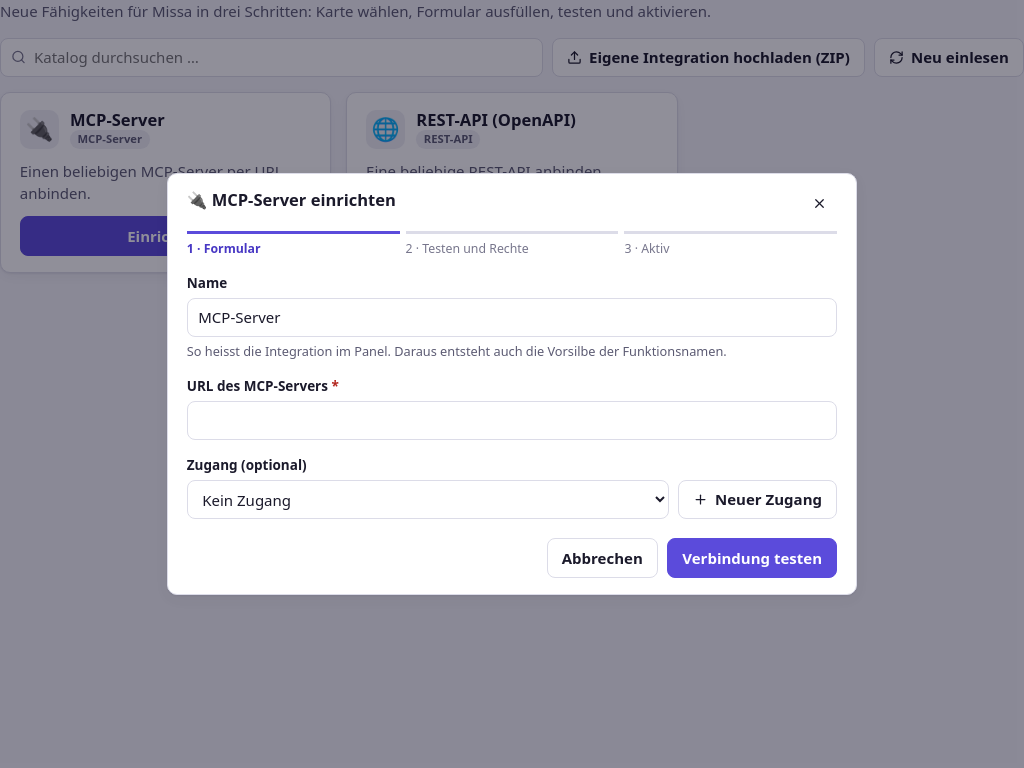
Test case: Assistent: Stufe „Nur lesen“ setzt alle Rechte, ein einzelnes Recht ändern zeigt „angepasst“
Type "http://server:8000/mcp" into the field labelled "URL des MCP-Servers *" at (512, 420), box top-left (187, 401), bottom-right (837, 440)
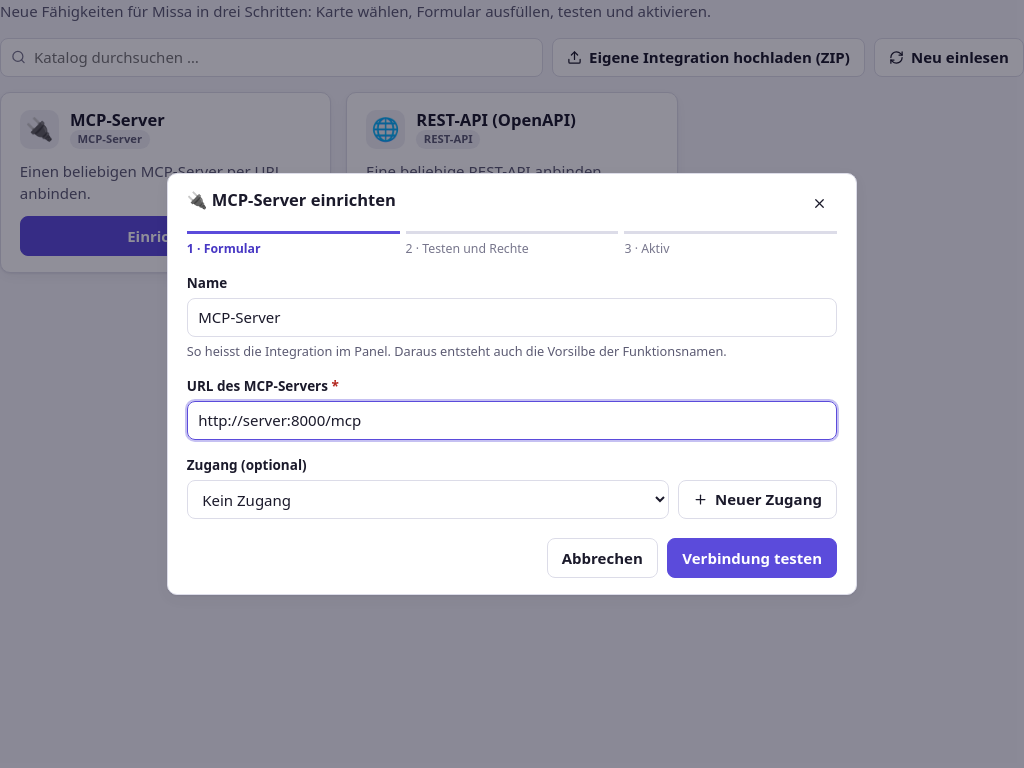
Click the button "Verbindung testen" at (752, 558), box top-left (667, 538), bottom-right (837, 578)
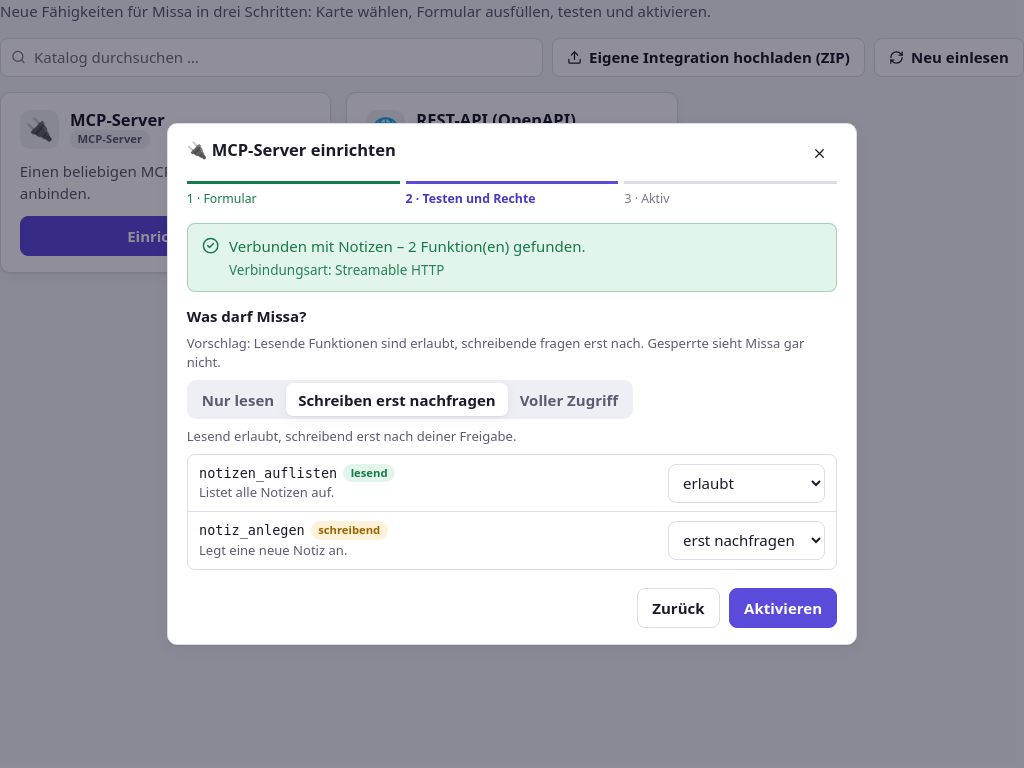
Click the radio button labelled "Nur lesen" at (238, 400), box top-left (190, 383), bottom-right (286, 416)
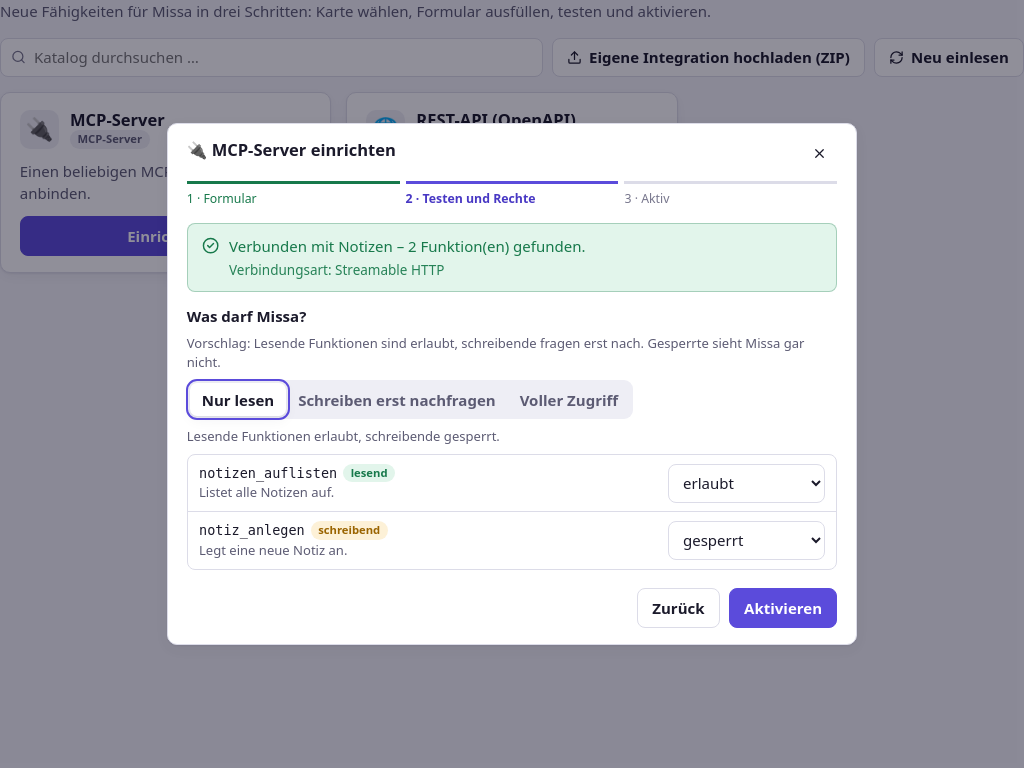
Expected: the text "angepasst" is not shown
Expected: the dropdown named "Recht für notizen_auflisten" shows "erlaubt", top-left (668, 464), bottom-right (825, 502)
Expected: the dropdown named "Recht für notiz_anlegen" shows "gesperrt"
Select "erst nachfragen" in the dropdown named "Recht für notiz_anlegen" at (746, 540), box top-left (668, 521), bottom-right (825, 560)
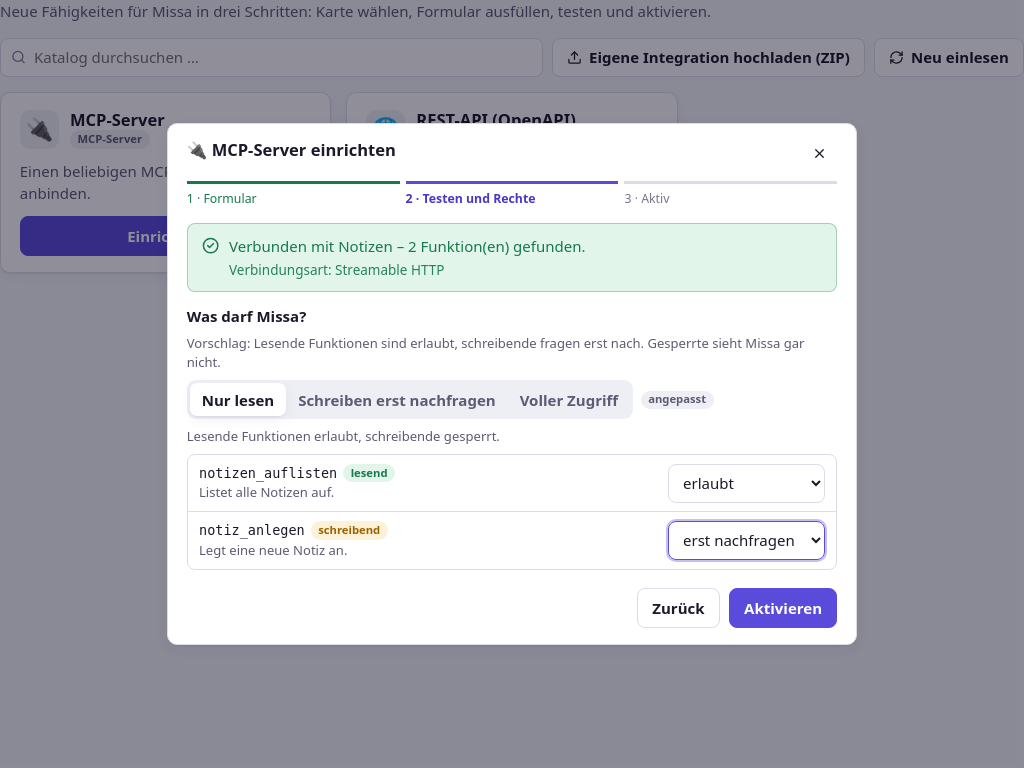
Expected: the text "angepasst" is shown, top-left (641, 391), bottom-right (714, 409)
Click the button "Aktivieren" at (783, 608), box top-left (729, 588), bottom-right (837, 628)
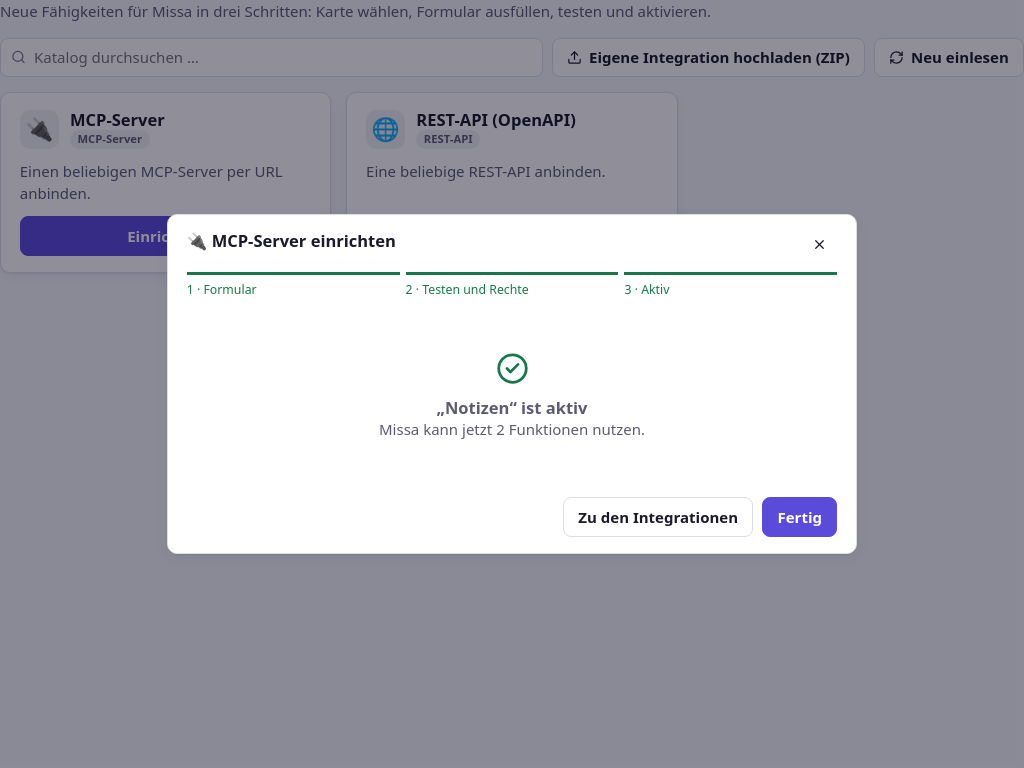
Expected: the heading "„Notizen“ ist aktiv" is shown, top-left (436, 396), bottom-right (588, 419)
